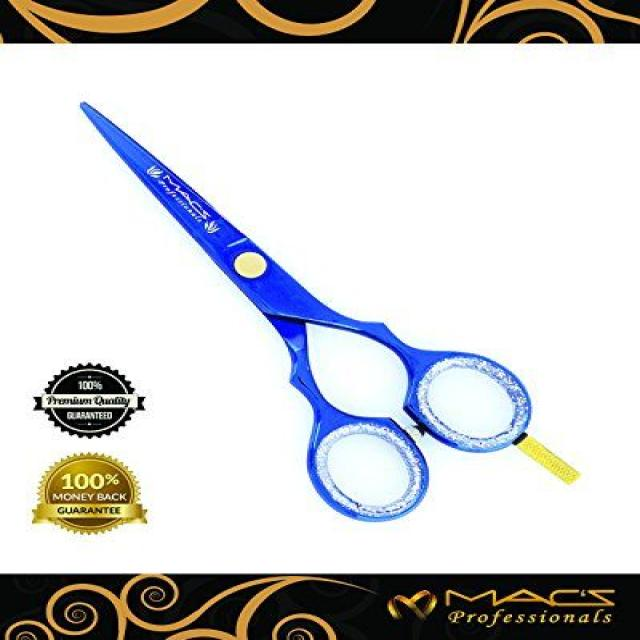scissor: (68, 94, 595, 518)
